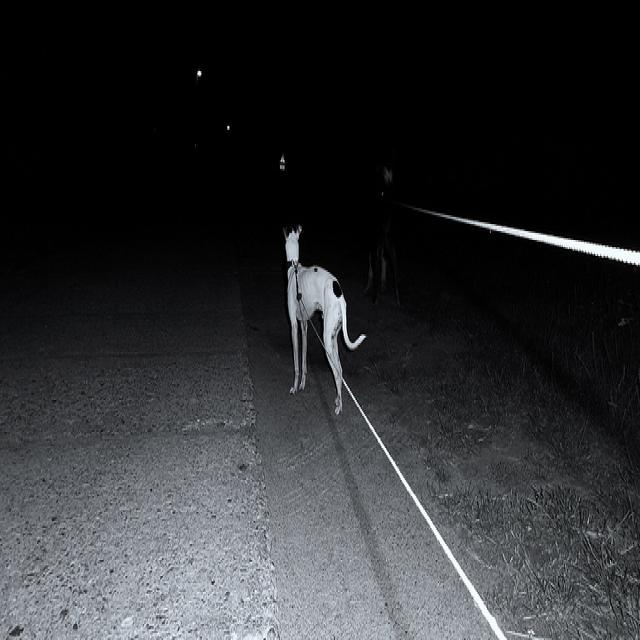dog: (275, 215, 371, 455)
